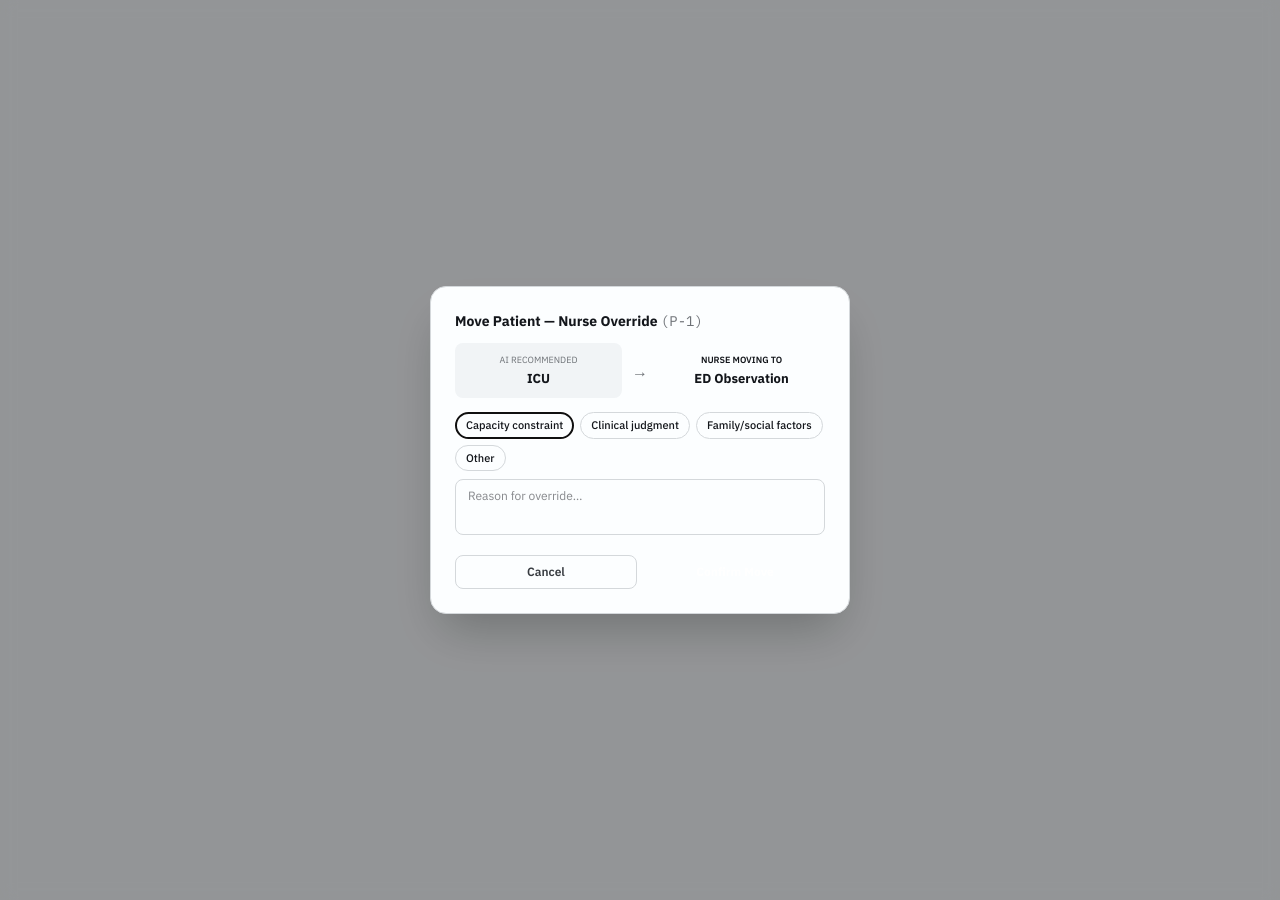
Test: OverrideReasonModal › fills the textarea when a quick-reason chip is clicked
This screenshot has width=1280, height=900.
Click the button "Capacity constraint" at coordinates (515, 425), box x1=455 y1=412 x2=574 y2=438
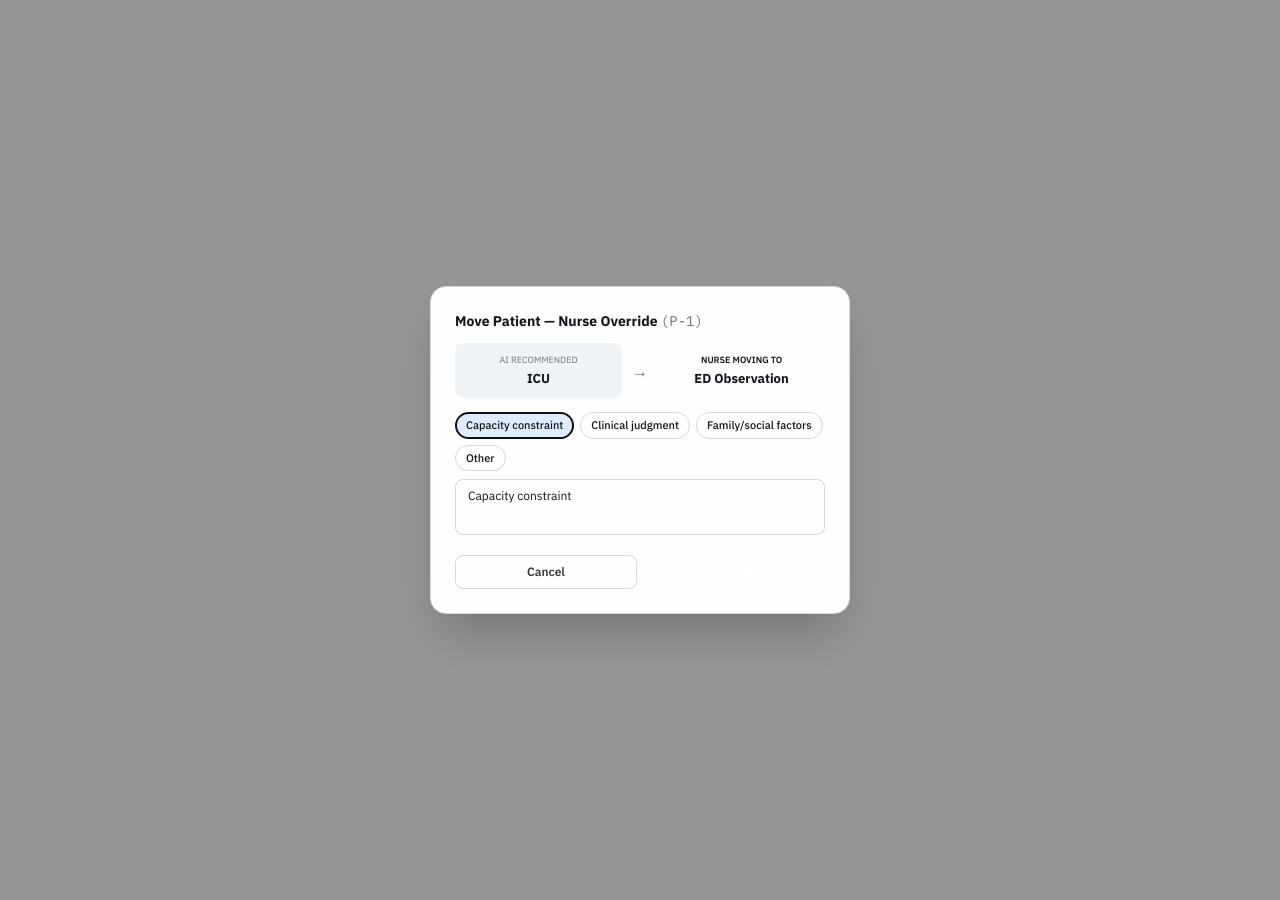
Expected: the text box with placeholder "Reason for override…" holds "Capacity constraint", x1=455 y1=479 x2=825 y2=535
